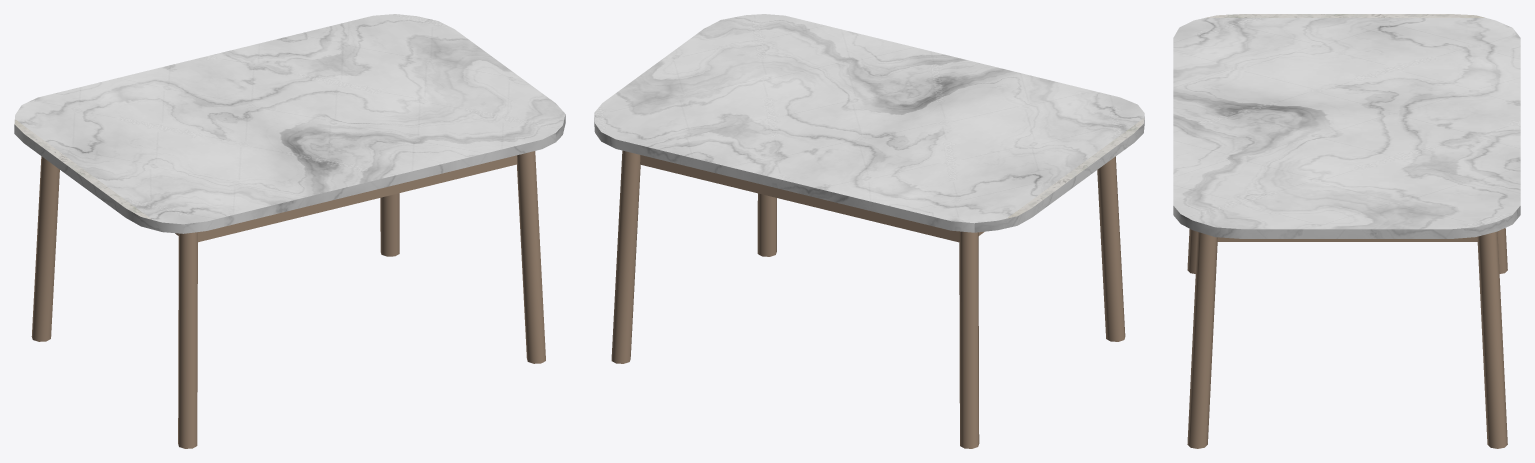
The model's file is Marble Table.fbx.
3 renders of one model, left to right at view 1: azimuth 30°, elevation 25°; view 2: azimuth 150°, elevation 25°; view 3: azimuth 270°, elevation 25°, orthographic. The views are drawn at different scales.
Parts seen in each view (by area): view 1: Diining_Table_Combined1; view 2: Diining_Table_Combined1; view 3: Diining_Table_Combined1.
Boxes of the visible parts, <box> form: Diining_Table_Combined1: <box>14,14,565,448</box>; Diining_Table_Combined1: <box>594,14,1144,448</box>; Diining_Table_Combined1: <box>1173,14,1520,448</box>.
Bounding box in the file's own units: 148 × 75.84 × 101.
